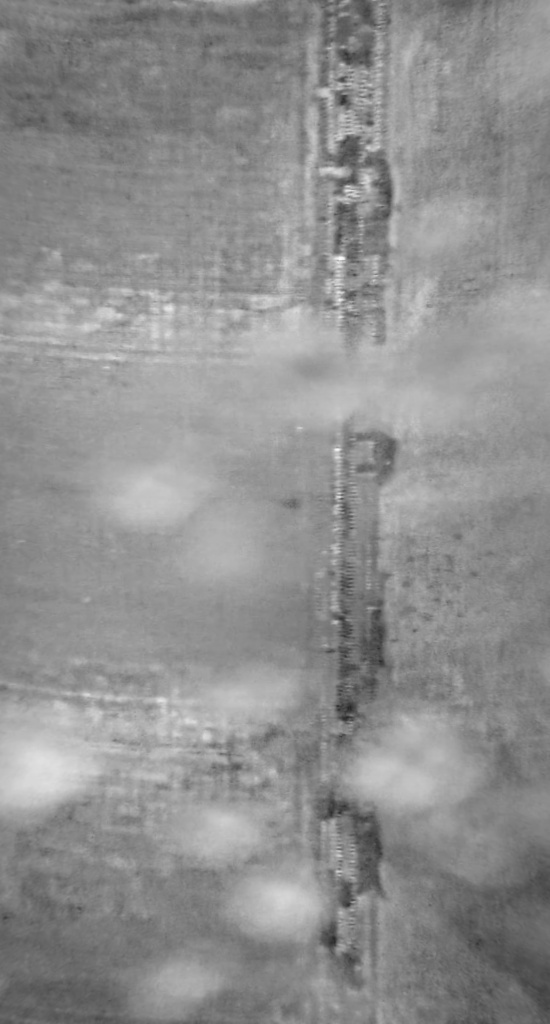splice: (306, 1, 403, 1021)
